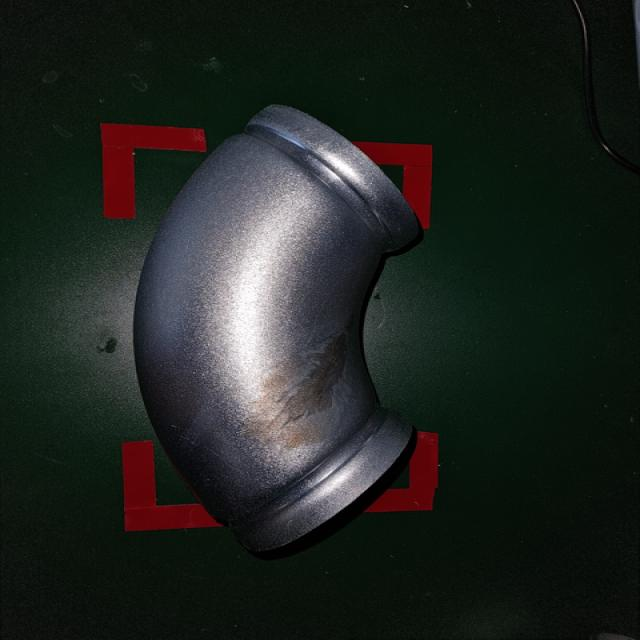Burn: (245, 332, 368, 449)
Defect: (130, 98, 424, 560)
